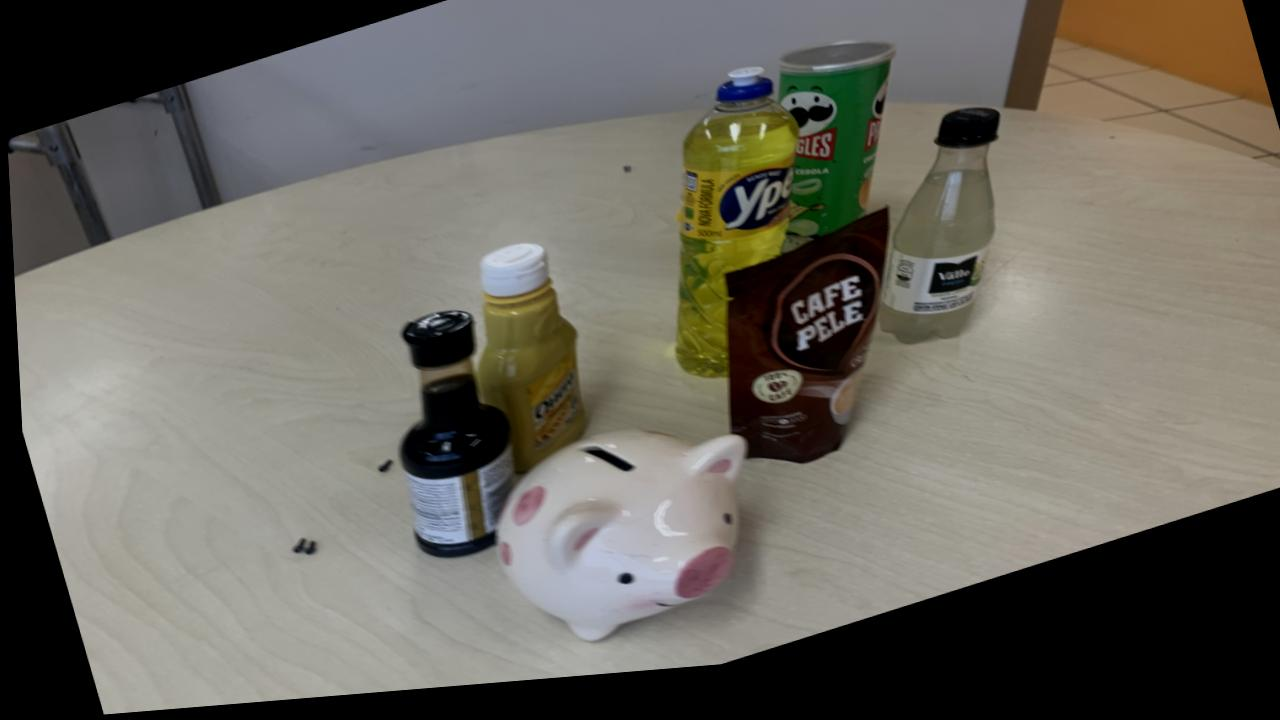Coffee-Pantry_Items: (721, 222, 886, 476)
Detergent-Cleanup_Items: (671, 79, 796, 389)
English_Sauce-Pantry_Items: (394, 318, 509, 564)
Mustard-Pantry_Items: (471, 251, 581, 481)
Pig_Safe-Miscellaneous: (489, 440, 741, 650)
Pringles-Snacks: (775, 55, 895, 263)
Soda-Drinks: (875, 124, 998, 359)
